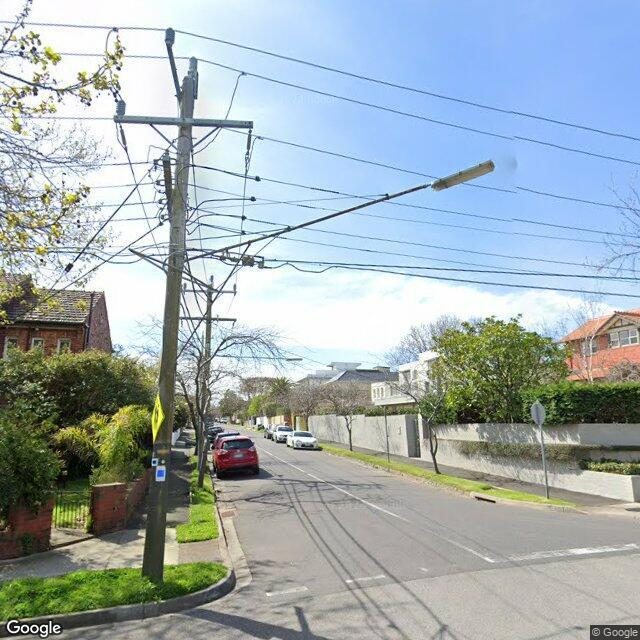HV-transmission: (116, 56, 198, 116), (165, 27, 198, 78), (183, 274, 236, 292)
crossarm: (113, 116, 253, 128), (168, 44, 182, 105), (163, 155, 171, 220), (180, 288, 237, 294), (178, 316, 236, 321)
streetlight: (177, 159, 496, 267), (211, 354, 304, 361)
timber-pole: (142, 77, 196, 580), (198, 284, 212, 472)
